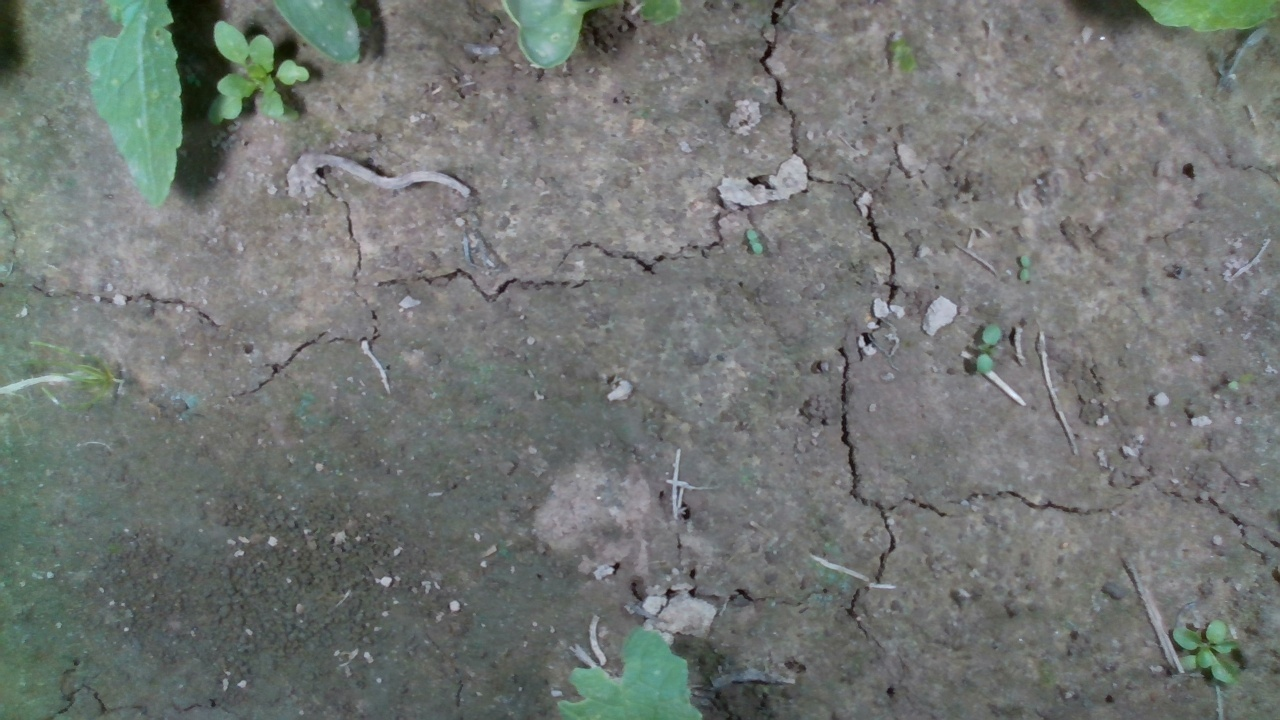weed: (1170, 616, 1239, 684), (975, 321, 1002, 375), (745, 228, 764, 256), (1017, 252, 1029, 282)
